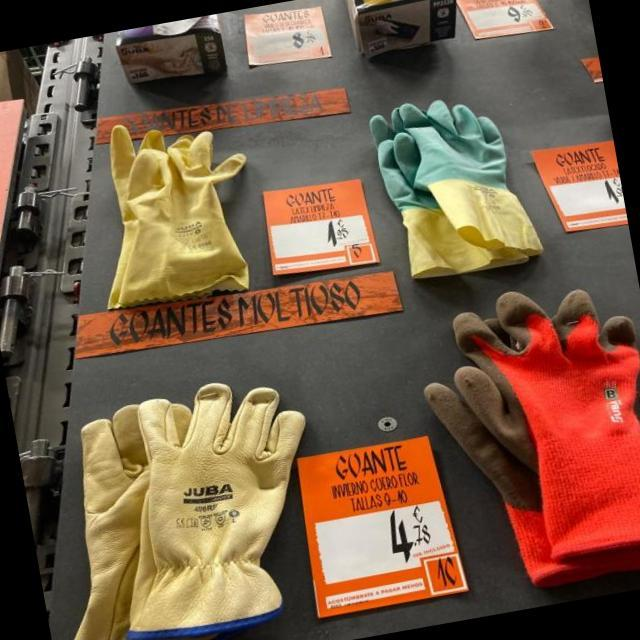glove: (74, 371, 314, 627), (365, 91, 544, 282), (101, 115, 255, 307)
